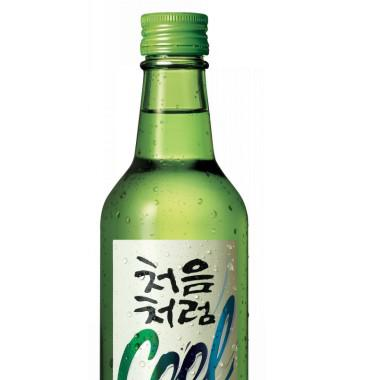soju: (97, 8, 252, 379)
